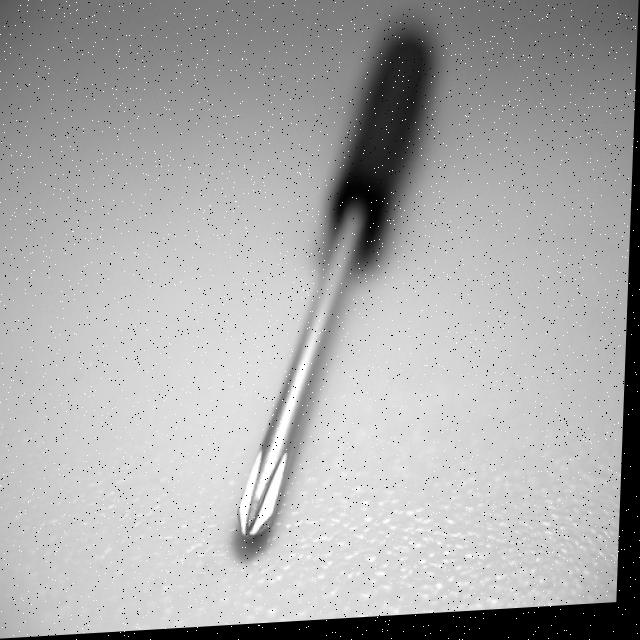Screwdriver: (242, 37, 431, 540)
